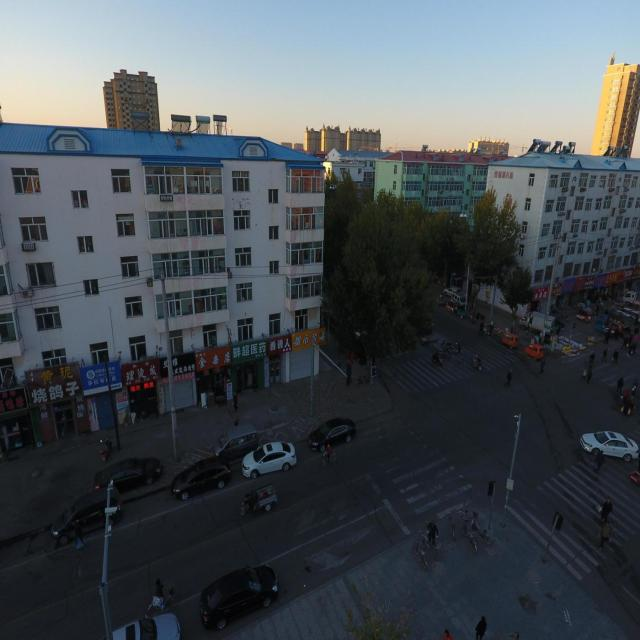car: (200, 564, 278, 630), (51, 485, 122, 546), (93, 456, 163, 491), (241, 440, 297, 479), (102, 612, 180, 639), (578, 430, 640, 462), (307, 417, 356, 452)
person: (600, 496, 612, 524), (475, 615, 487, 639), (443, 629, 452, 639)
tree: (319, 185, 435, 384), (458, 184, 524, 326), (498, 264, 534, 334)
